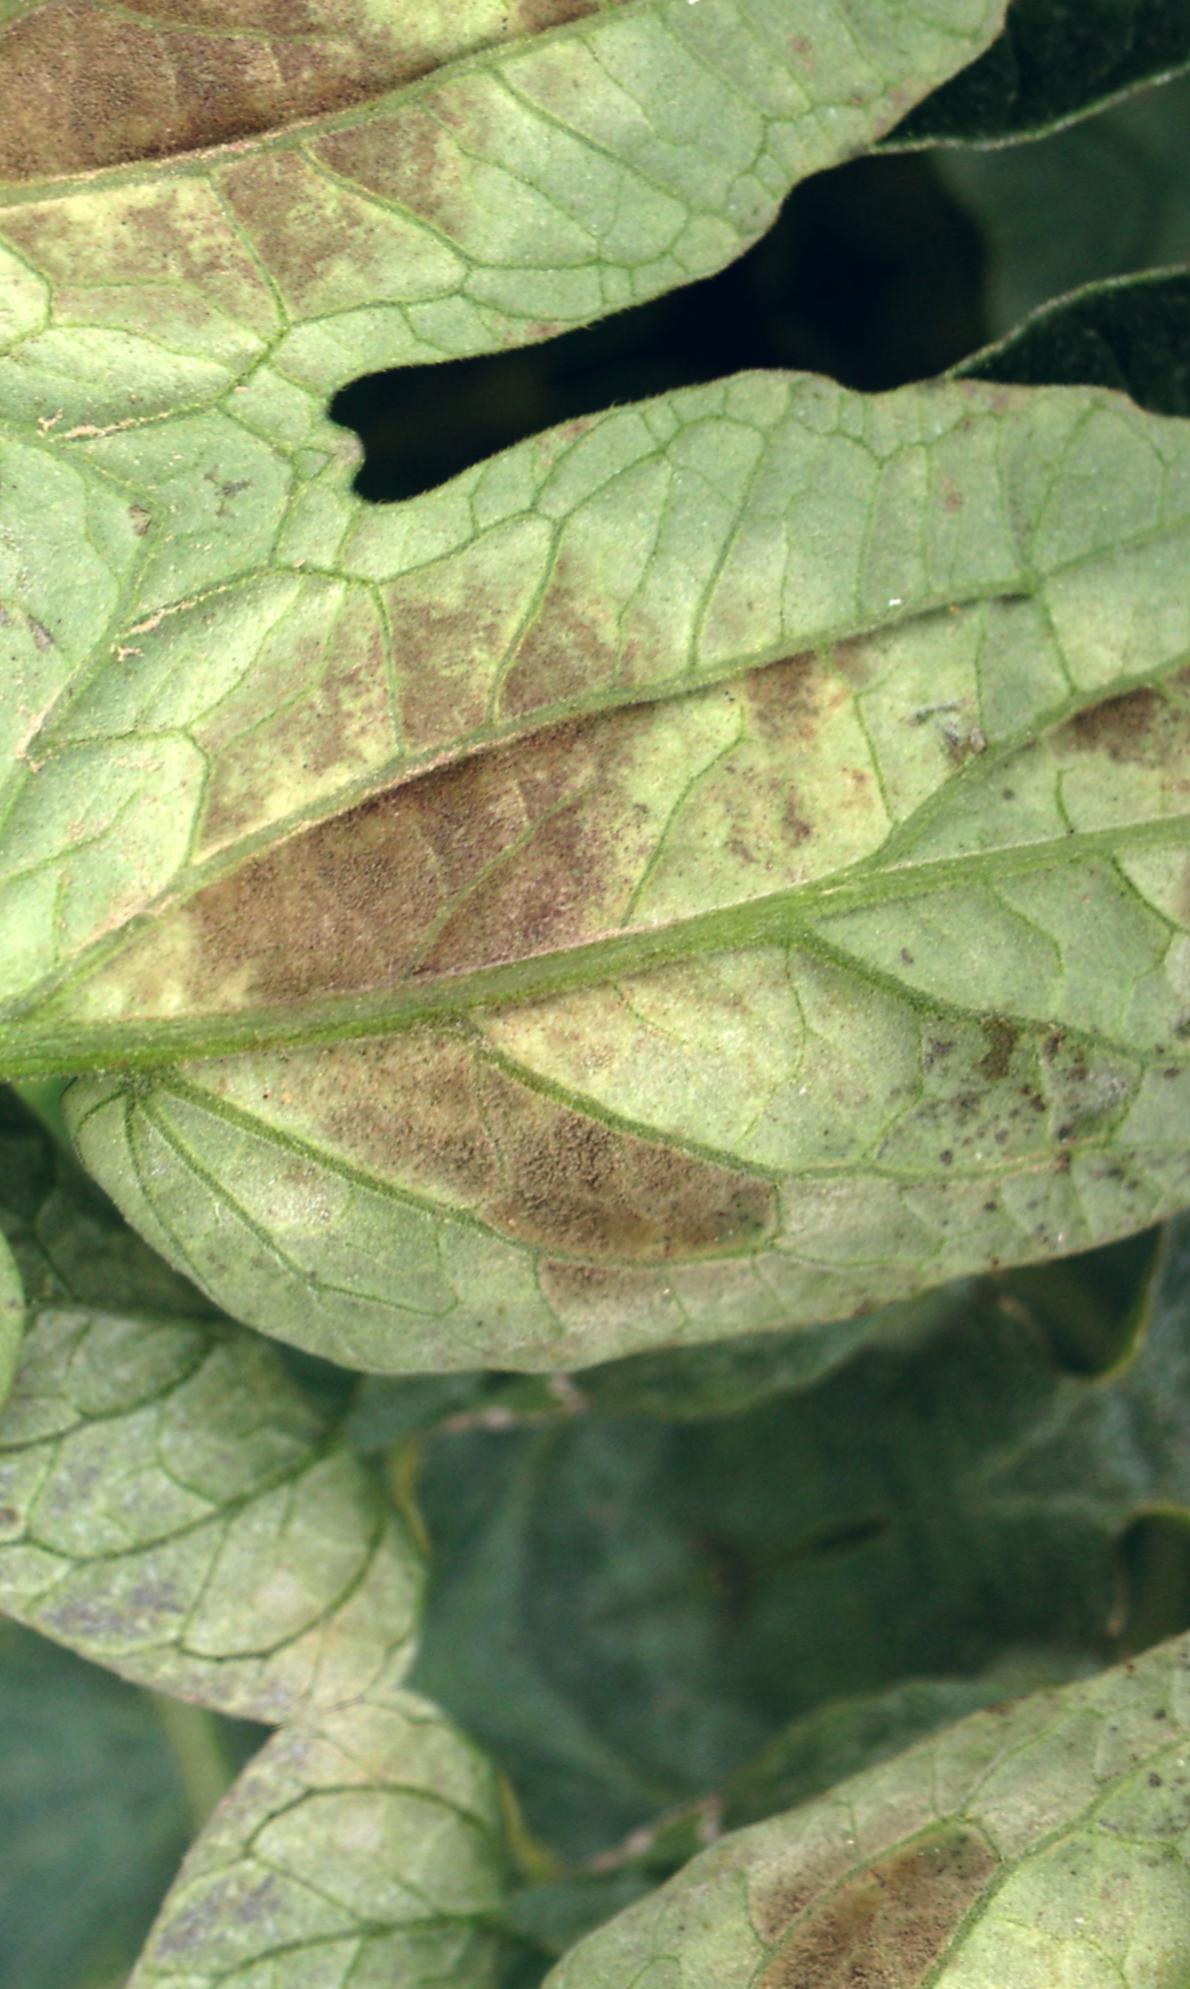Tomato mold leaf: (0, 144, 1190, 1724), (0, 1067, 534, 1854)
